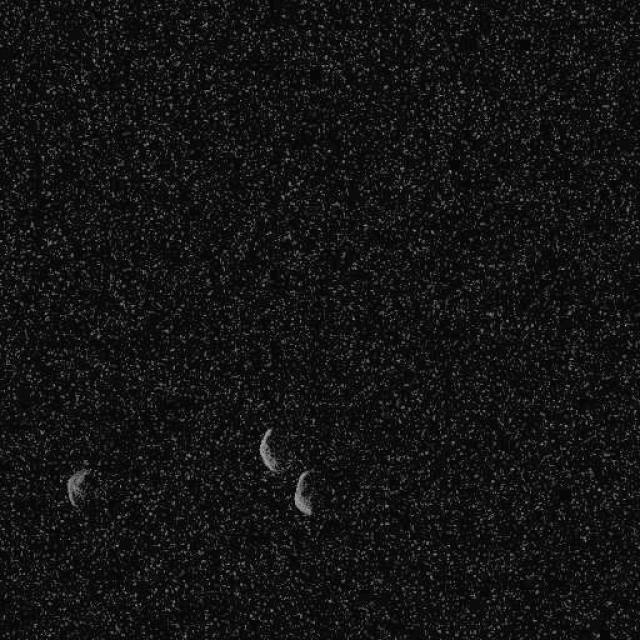D2: (257, 425, 285, 474), (293, 469, 315, 516), (65, 468, 90, 508)
